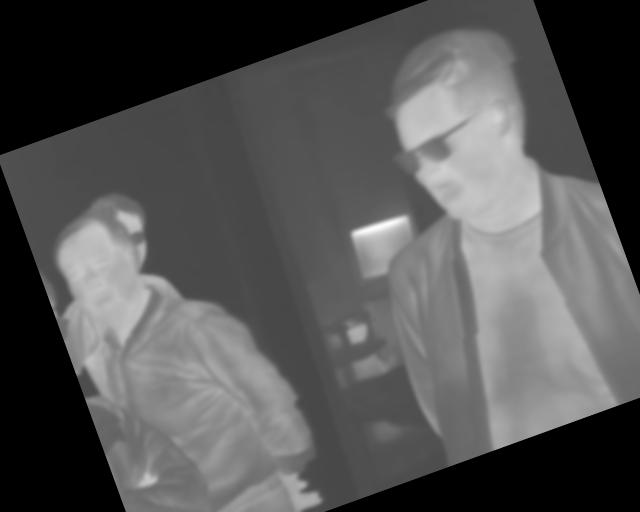face: (362, 8, 563, 231), (42, 201, 157, 335)
